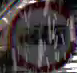Heavy Vehicles: (7, 1, 75, 70)
